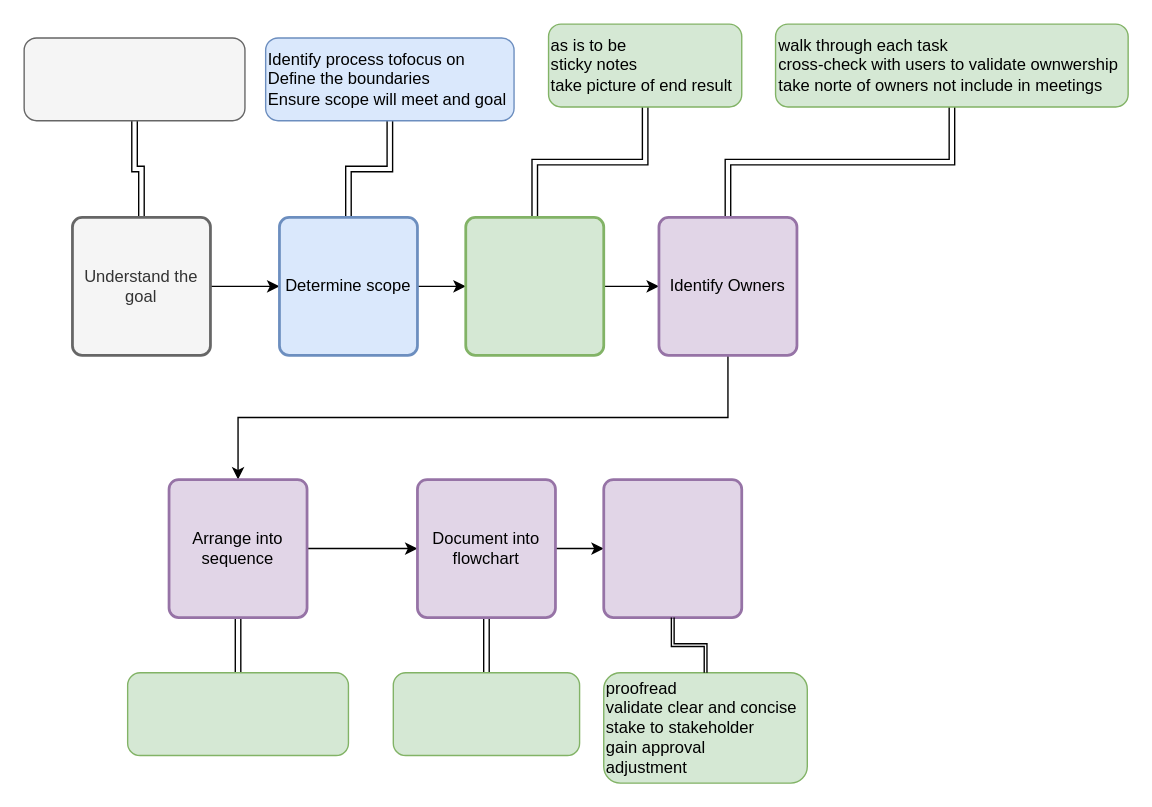
Some shapes in this 1152 by 807 pixel diagram are drawn without their labels. Here are the shapes that lost their labels. From the top down, the centre of each, then its label:
pixel 134 79: Documentation Visualization Identify gaps and inefficiency
pixel 534 285: Brainstorm tasks
pixel 672 547: Review with others
pixel 237 713: put each step into sequence be mindful of scopes
pixel 486 713: utilize notes and pictures use draw io excel visio
